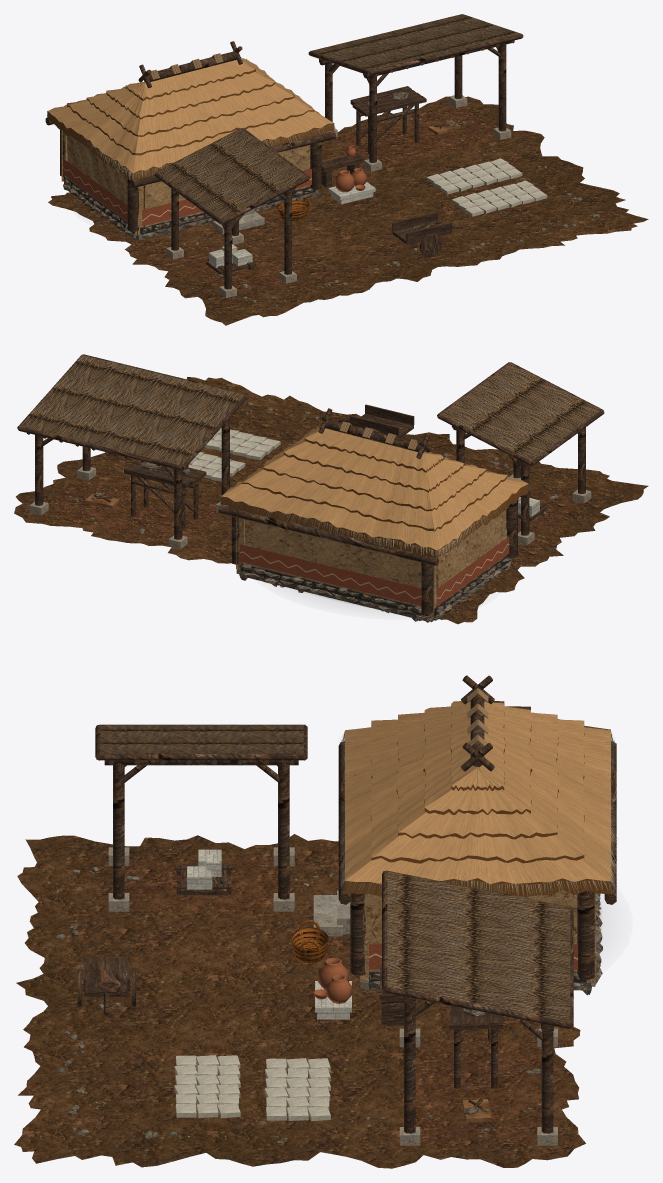
The model's file is road_depot.glb.
3 views of the same model, one above another, from view 1: azimuth 30°, elevation 25°; view 2: azimuth 150°, elevation 25°; view 3: azimuth 270°, elevation 25° (orthographic). The views are drawn at different scales.
Visible parts, largest first — view 1: part_1, part_19, part_8, part_13, part_11, part_17, part_5, part_20, part_23, part_4, part_12, part_7 (+5 smaller); view 2: part_13, part_19, part_1, part_8, part_5, part_11, part_20, part_23, part_4, part_17, part_21, part_22 (+1 smaller); view 3: part_1, part_19, part_13, part_8, part_11, part_17, part_20, part_12, part_5, part_7, part_21, part_2 (+3 smaller).
Boxes of the visible parts, x1,y1,x2,y2 form: part_1: (48, 96, 648, 325); part_19: (48, 58, 333, 173); part_8: (45, 14, 523, 289); part_13: (157, 14, 519, 219); part_11: (175, 105, 499, 293); part_17: (426, 158, 547, 216); part_5: (61, 130, 319, 235); part_20: (47, 57, 334, 180); part_23: (62, 158, 311, 226); part_4: (63, 91, 456, 240); part_12: (166, 95, 511, 298); part_7: (208, 182, 375, 267); part_13: (20, 355, 601, 465); part_19: (221, 425, 528, 550); part_1: (14, 377, 648, 624); part_8: (17, 354, 604, 614); part_5: (236, 510, 513, 617); part_11: (43, 477, 581, 545); part_20: (220, 438, 528, 557); part_23: (239, 536, 509, 605); part_4: (91, 462, 511, 622); part_17: (188, 428, 280, 481); part_21: (219, 439, 529, 560); part_22: (240, 555, 510, 620); part_1: (14, 834, 585, 1168); part_19: (345, 700, 610, 884); part_13: (99, 725, 570, 1022); part_8: (77, 675, 616, 1133); part_11: (124, 861, 541, 1143); part_17: (174, 1055, 330, 1121); part_20: (345, 702, 610, 896); part_12: (108, 847, 557, 1145); part_5: (360, 890, 595, 981); part_7: (187, 849, 351, 1019); part_21: (338, 731, 616, 898); part_2: (46, 867, 541, 1144).
Size of the model in its own units: 9.22 by 2.81 by 7.32.
Materials: 24 (19 with a texture image).
